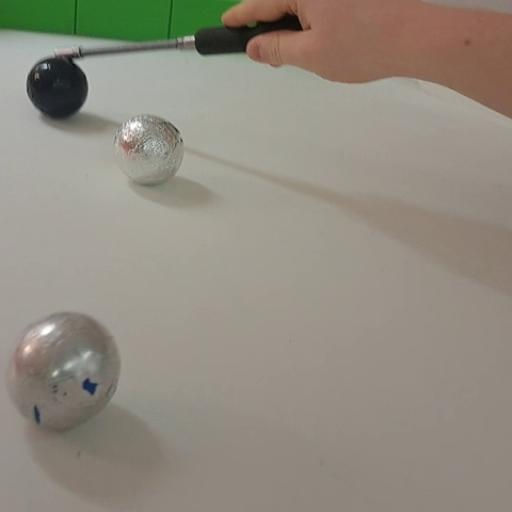alive: (7, 309, 124, 433), (112, 113, 185, 184)
dead: (25, 54, 91, 120)
